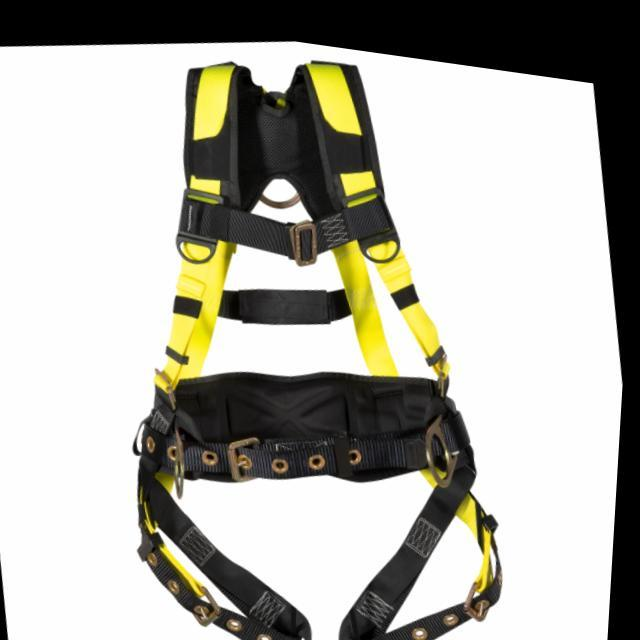belt: (51, 9, 554, 640)
